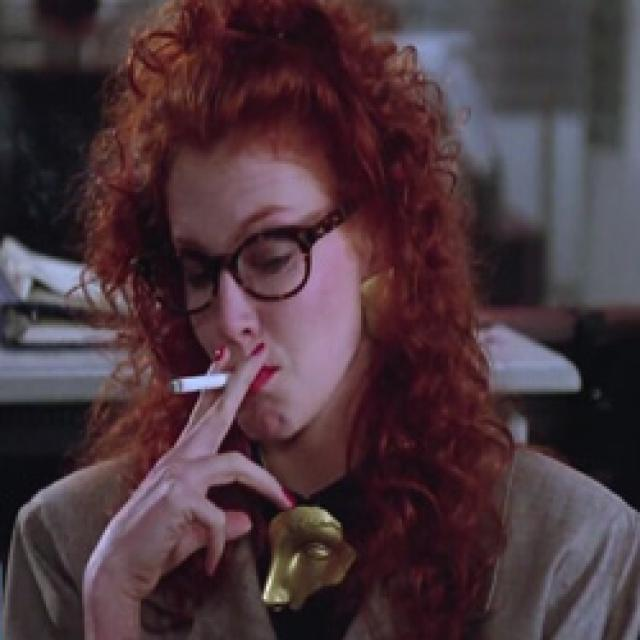Smooking: (154, 350, 259, 406)
